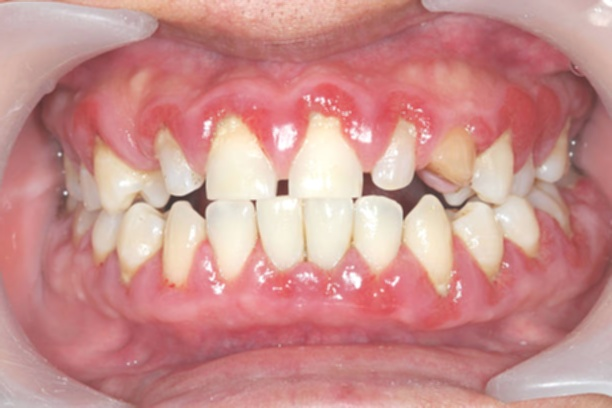Gingivitis: (143, 315, 504, 350), (250, 264, 405, 308), (467, 88, 566, 151), (192, 87, 270, 145), (292, 79, 362, 130), (372, 89, 439, 142), (127, 96, 184, 140), (471, 253, 516, 302), (543, 221, 588, 269), (70, 94, 104, 131)
